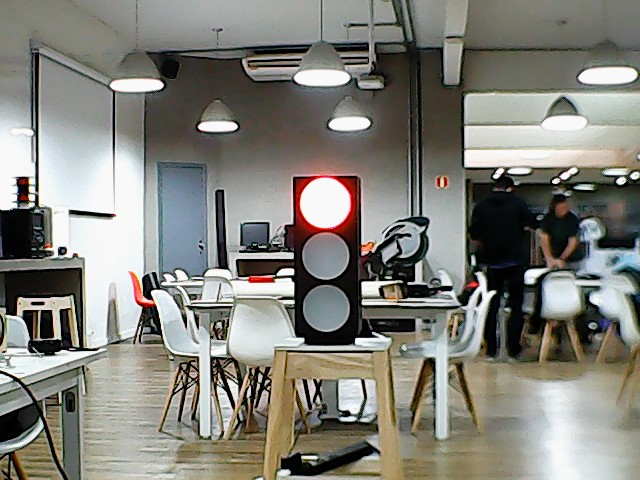vermelho: (289, 173, 366, 349)
